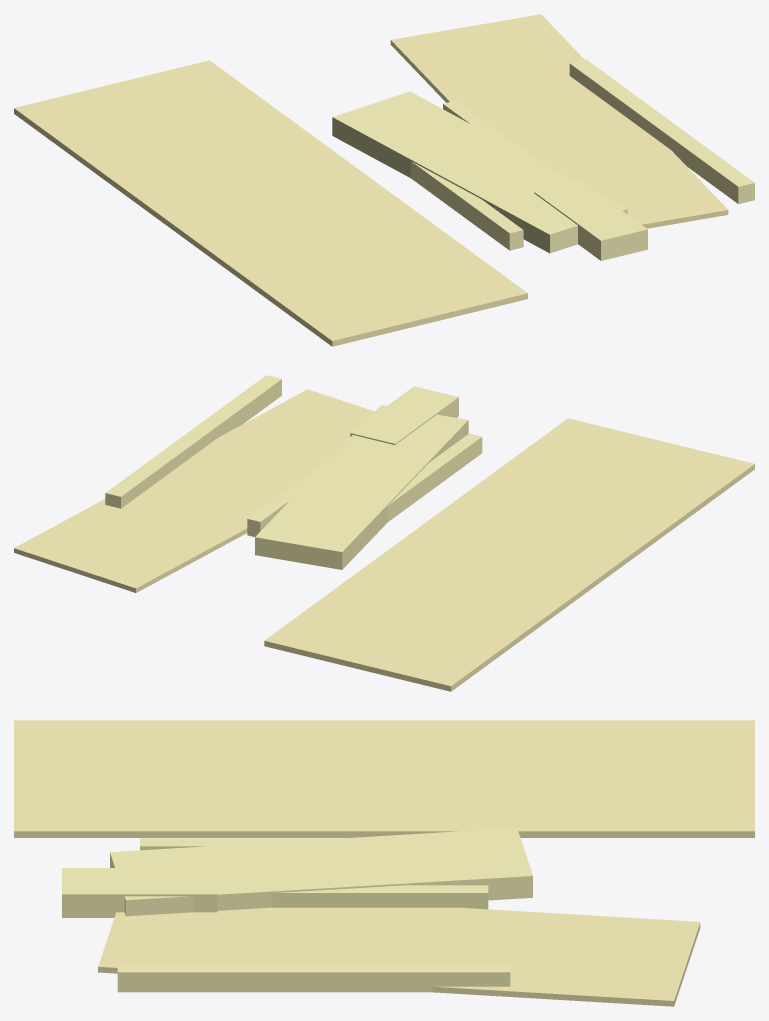
File: road_separator_island_bus_bay_taper.glb
3 renders of one model, top to bottom at view 1: azimuth 30°, elevation 25°; view 2: azimuth 150°, elevation 25°; view 3: azimuth 270°, elevation 25°, orthographic. The views are drawn at different scales.
Parts seen in each view (by area): view 1: lane_left, bus_bay, separator_island, bay_curb, separator_nose, curb_left, curb_right; view 2: lane_left, bus_bay, separator_island, bay_curb, separator_nose, curb_left, curb_right; view 3: lane_left, bus_bay, separator_island, bay_curb, separator_nose, curb_right, curb_left.
Part boxes in pixels (x1=…): lane_left: x1=14, y1=60, x2=527, y2=346; bus_bay: x1=390, y1=14, x2=728, y2=228; separator_island: x1=332, y1=91, x2=627, y2=253; bay_curb: x1=569, y1=59, x2=754, y2=203; separator_nose: x1=534, y1=180, x2=647, y2=260; curb_left: x1=411, y1=161, x2=523, y2=250; curb_right: x1=443, y1=100, x2=539, y2=161; lane_left: x1=264, y1=418, x2=754, y2=691; bus_bay: x1=14, y1=389, x2=374, y2=592; separator_island: x1=255, y1=405, x2=468, y2=569; bay_curb: x1=105, y1=375, x2=281, y2=508; separator_nose: x1=350, y1=386, x2=458, y2=444; curb_left: x1=387, y1=433, x2=482, y2=521; curb_right: x1=247, y1=458, x2=330, y2=536; lane_left: x1=14, y1=720, x2=754, y2=837; bus_bay: x1=98, y1=907, x2=700, y2=1006; separator_island: x1=110, y1=828, x2=532, y2=916; bay_curb: x1=117, y1=962, x2=510, y2=992; separator_nose: x1=62, y1=868, x2=217, y2=917; curb_right: x1=272, y1=885, x2=488, y2=909; curb_left: x1=140, y1=838, x2=338, y2=850.
Size of the model in its own units: 3.57 by 0.14 by 4.
